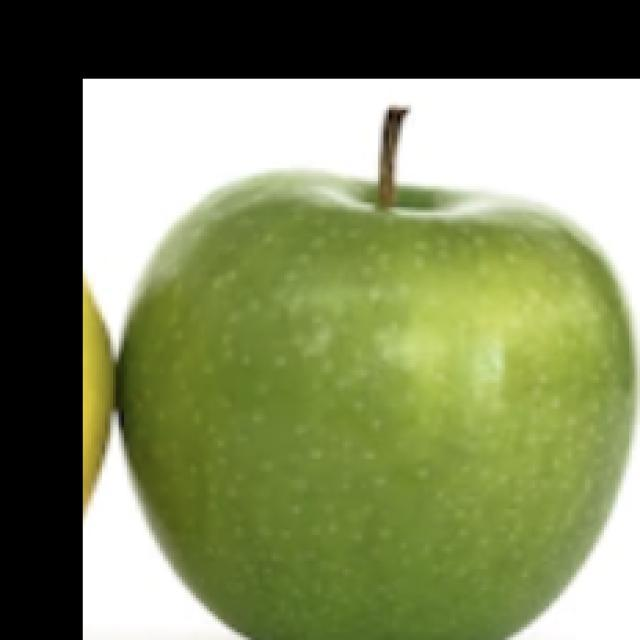Fresh Apple: (118, 178, 640, 640)
